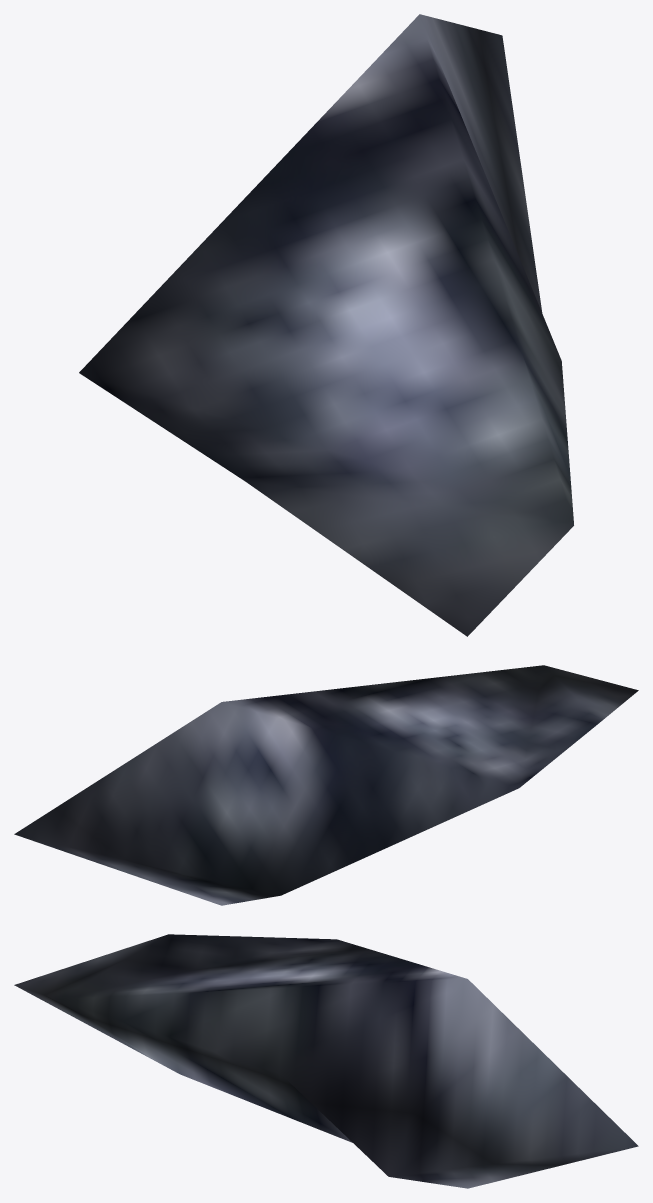
File: nar_condra_7_cone_1.glb
3 renders of one model, top to bottom at view 1: azimuth 30°, elevation 25°; view 2: azimuth 150°, elevation 25°; view 3: azimuth 270°, elevation 25°, orthographic. The views are drawn at different scales.
Visible parts, largest first — view 1: model_nar_condra_7_cone_1; view 2: model_nar_condra_7_cone_1; view 3: model_nar_condra_7_cone_1.
Boxes of the visible parts, x1,y1,x2,y2 form: model_nar_condra_7_cone_1: (79,14,573,636); model_nar_condra_7_cone_1: (14,665,638,905); model_nar_condra_7_cone_1: (14,934,638,1188).
Size of the model in its own units: 0.1502 by 0.0815 by 0.2203.
1 material, 1 textured.
